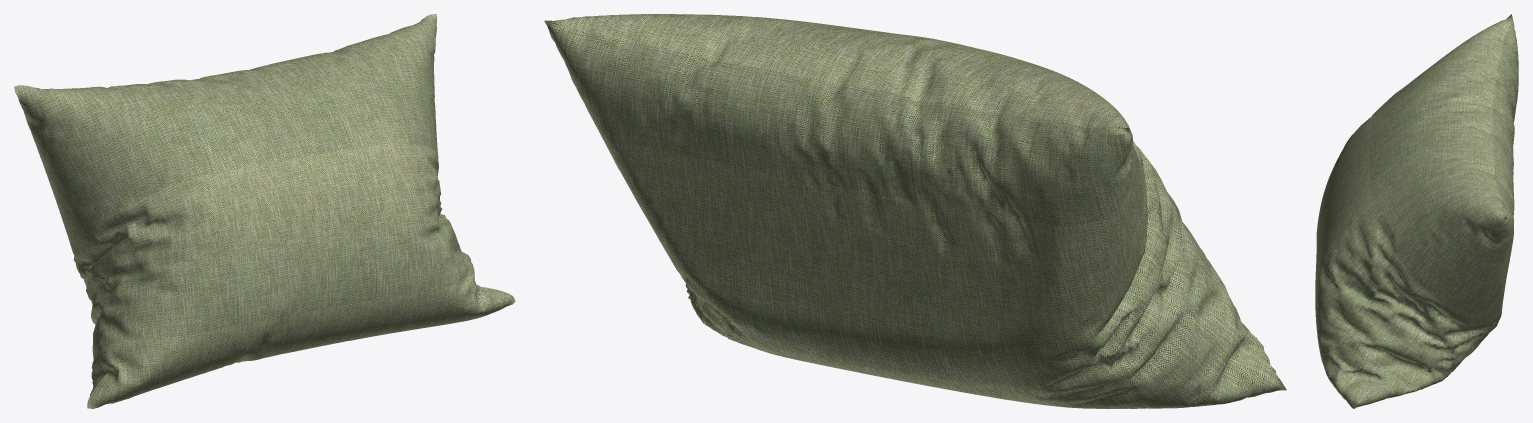
3 views of the same model, side by side, from view 1: azimuth 30°, elevation 25°; view 2: azimuth 150°, elevation 25°; view 3: azimuth 270°, elevation 25° (orthographic). The views are drawn at different scales.
Parts seen in each view (by area): view 1: pillow_1; view 2: pillow_1; view 3: pillow_1.
Boxes of the visible parts, <box> form: pillow_1: <box>14,14,515,408</box>; pillow_1: <box>544,14,1286,408</box>; pillow_1: <box>1315,14,1518,408</box>.
Bounding box in the file's own units: 0.7897 × 0.4367 × 0.3617.
1 material, 1 textured.
